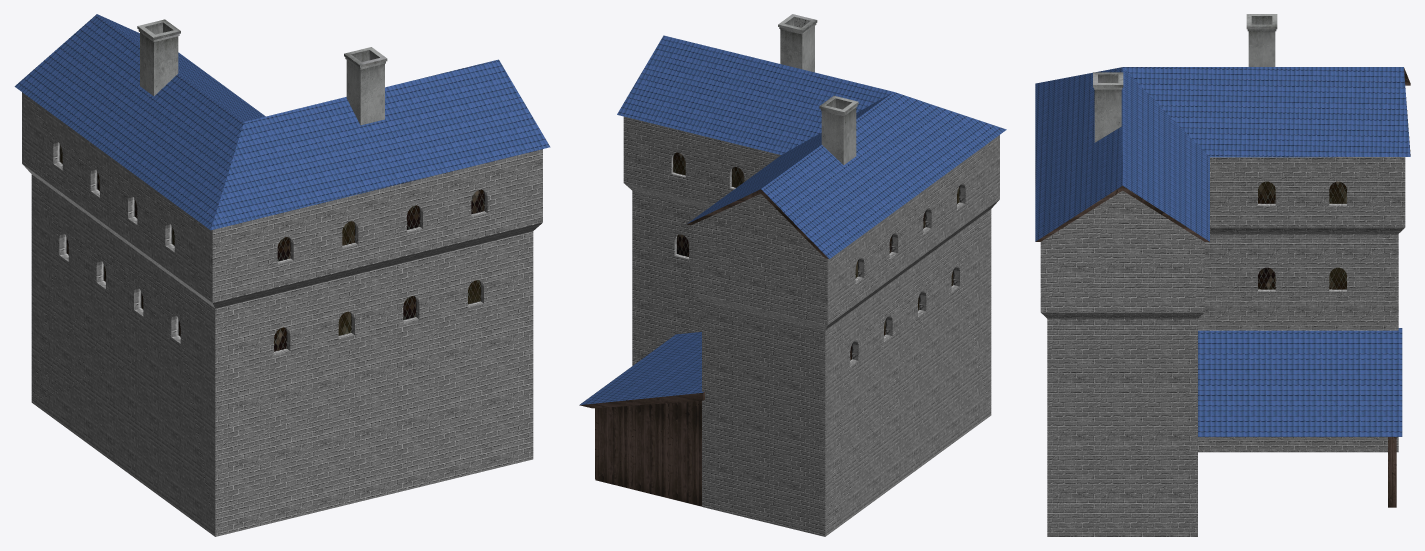
File: HouseCorner.fbx
The picture shows the model from 3 angles, left to right: view 1: azimuth 30°, elevation 25°; view 2: azimuth 150°, elevation 25°; view 3: azimuth 270°, elevation 25°; orthographic projection. The views are drawn at different scales.
Visible parts, largest first — view 1: HouseCorner; view 2: HouseCorner; view 3: HouseCorner.
Boxes of the visible parts, box(x1,y1,x2,y2) form: HouseCorner: box(14, 14, 550, 536); HouseCorner: box(579, 14, 1006, 536); HouseCorner: box(1035, 14, 1410, 536).
Size of the model in its own units: 2104 by 2448 by 2104.
